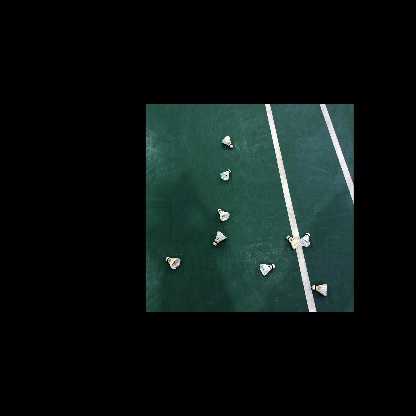ball_single: (213, 231, 227, 246), (286, 235, 301, 249), (166, 257, 181, 270), (311, 284, 327, 296), (260, 264, 275, 276), (218, 209, 230, 221), (300, 233, 310, 247), (220, 169, 231, 181), (222, 136, 233, 148)
